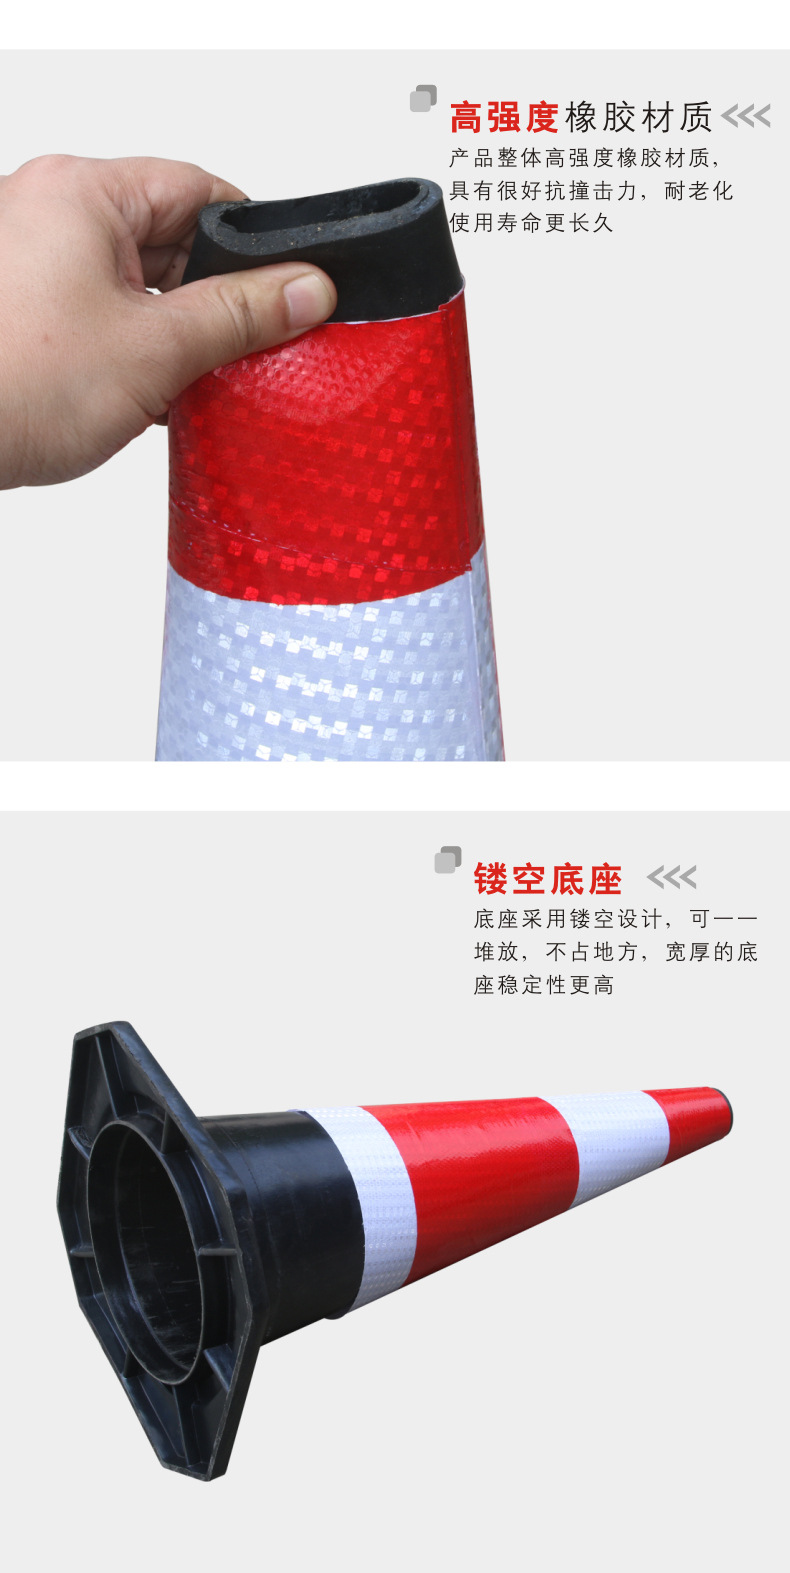traffic_cone: (6, 1001, 775, 1485)
